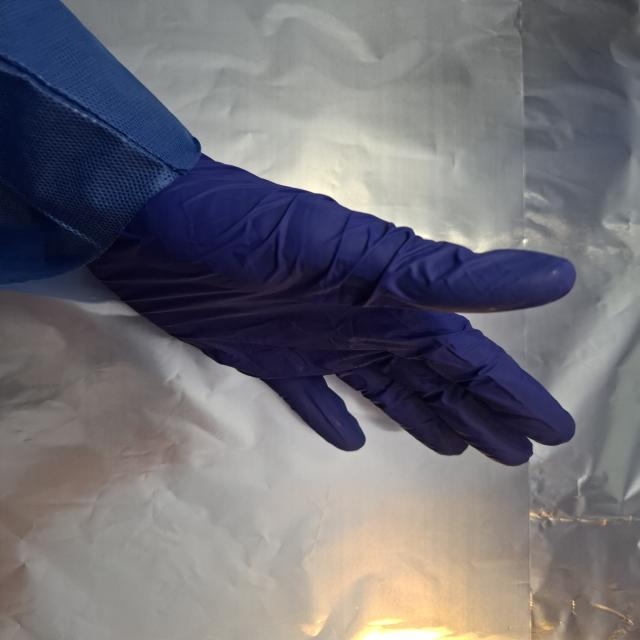glove_on: (85, 151, 581, 468)
